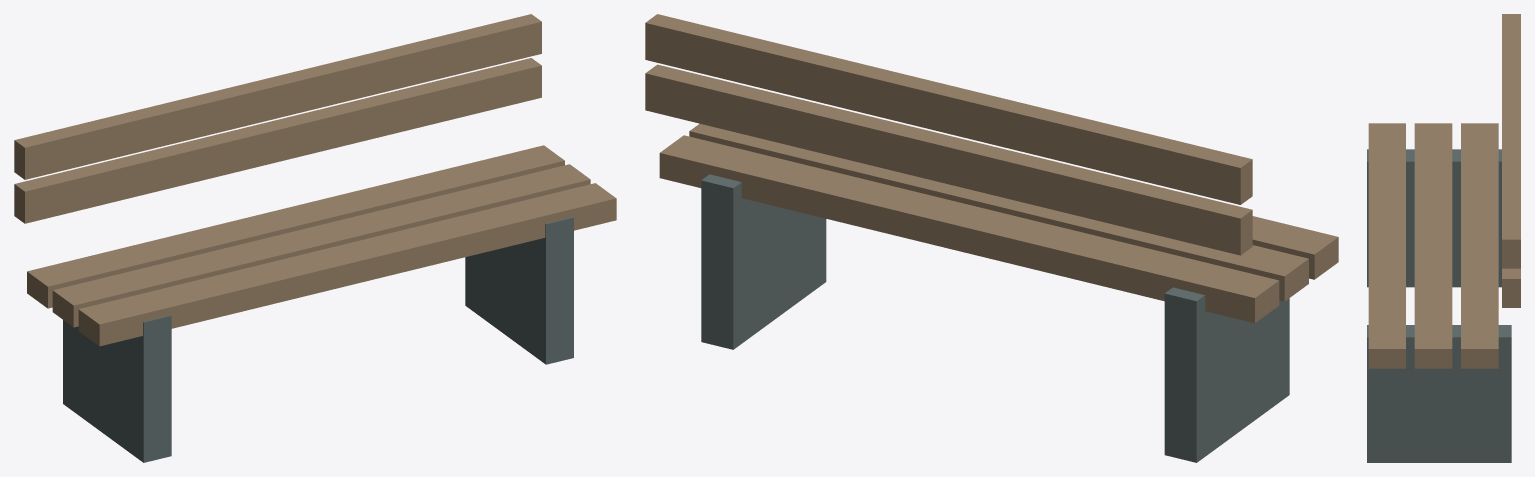
The picture shows the model from 3 angles, left to right: view 1: azimuth 30°, elevation 25°; view 2: azimuth 150°, elevation 25°; view 3: azimuth 270°, elevation 25°; orthographic projection. The views are drawn at different scales.
Bounding box in the file's own units: 1.85 × 0.925 × 0.5325.
